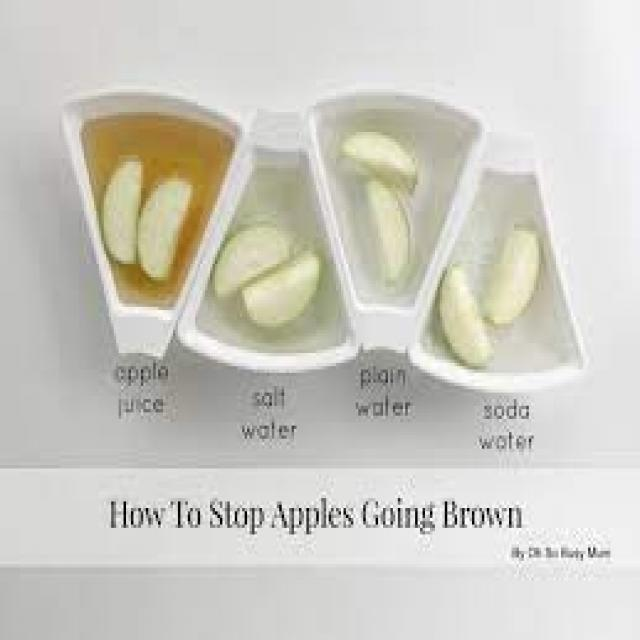Apple: (140, 164, 192, 280), (246, 258, 324, 328), (485, 232, 543, 322), (439, 268, 490, 369), (213, 228, 297, 284), (339, 126, 421, 183), (366, 175, 409, 283), (102, 155, 141, 268)
